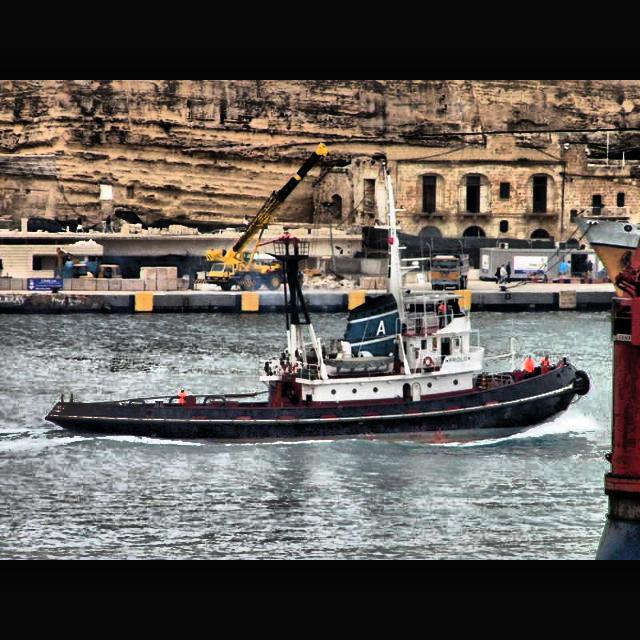tug: (45, 238, 589, 440)
